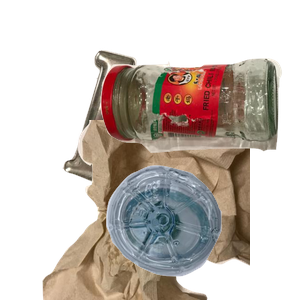glass: (98, 56, 300, 201)
metal: (60, 47, 300, 227)
plastic: (104, 163, 300, 300)
trash: (40, 120, 280, 300)
